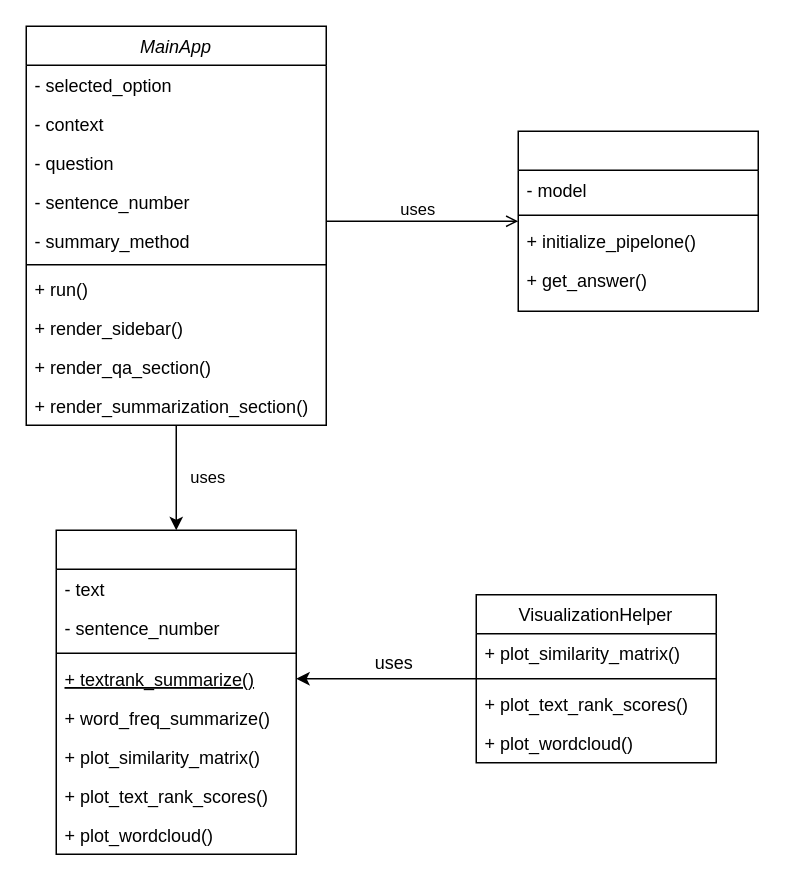
The diagram is 785 pixels wide and 885 high, and some of its shapes have lost their labels. The box of each missing label's shape, as (x1, y1, x2, y2) in pixels:
QAPipeline: (517, 130, 758, 311)
TextSummarizer: (55, 529, 296, 854)
